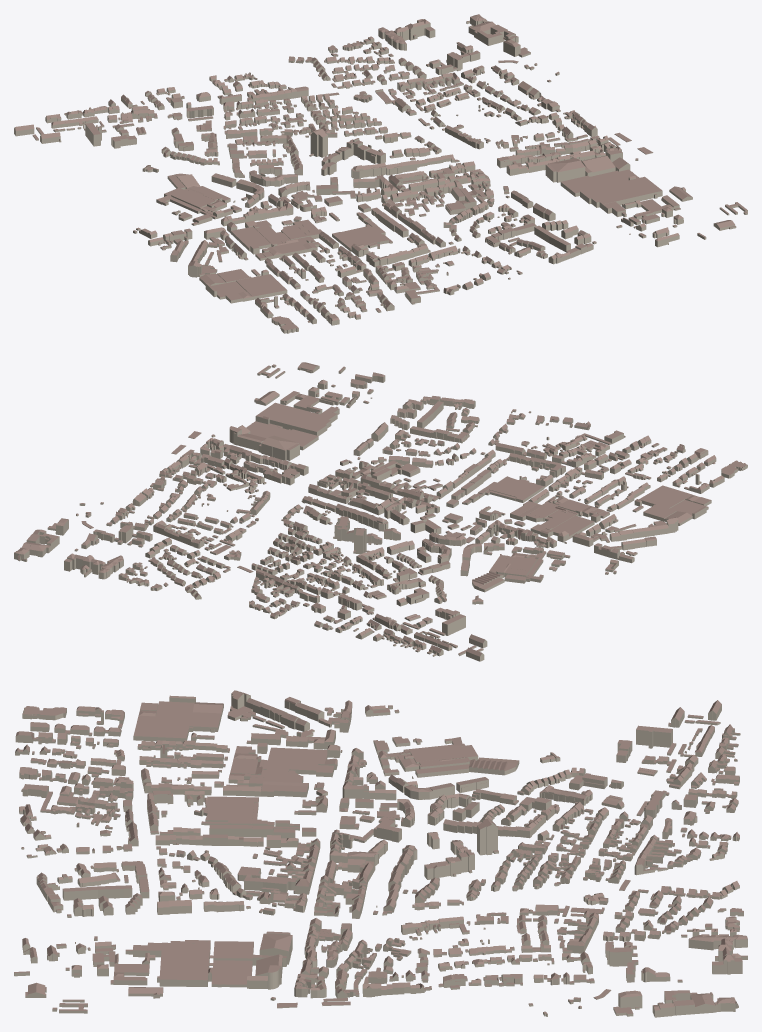
The picture shows the model from 3 angles, top to bottom: view 1: azimuth 30°, elevation 25°; view 2: azimuth 150°, elevation 25°; view 3: azimuth 270°, elevation 25°; orthographic projection. The views are drawn at different scales.
Visible parts, largest first — view 1: LoD2_32_320_5671_1_NW; view 2: LoD2_32_320_5671_1_NW; view 3: LoD2_32_320_5671_1_NW.
Part boxes in pixels (left/top/right/bottom): LoD2_32_320_5671_1_NW: left=14, top=14, right=747, bottom=333; LoD2_32_320_5671_1_NW: left=14, top=362, right=747, bottom=661; LoD2_32_320_5671_1_NW: left=14, top=690, right=747, bottom=1017.
Size of the model in its own units: 1020 by 53.62 by 1025.
